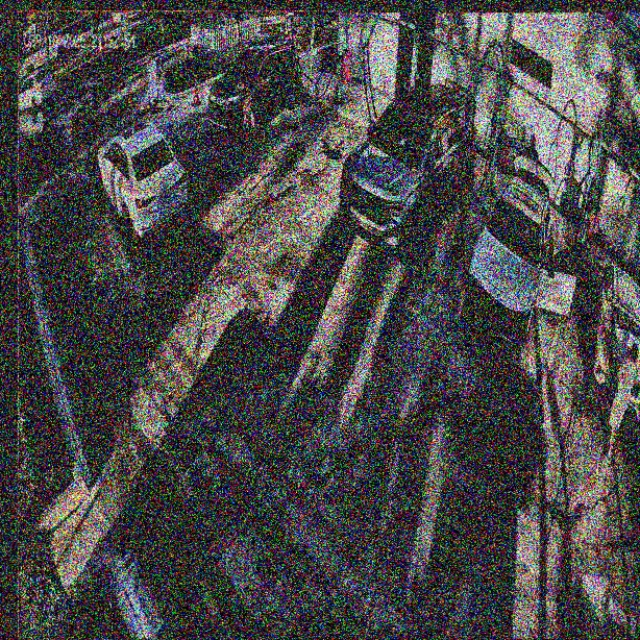Car: (339, 82, 470, 258), (469, 163, 573, 338), (99, 119, 187, 237)
